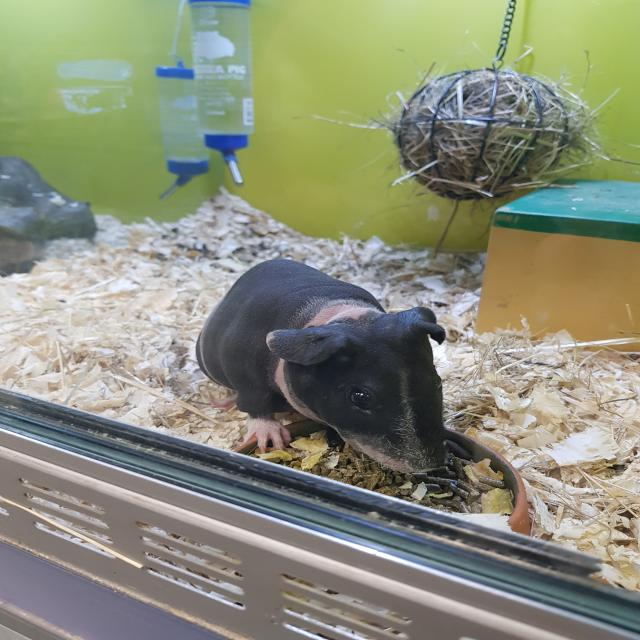guinea pig: (190, 257, 454, 483)
